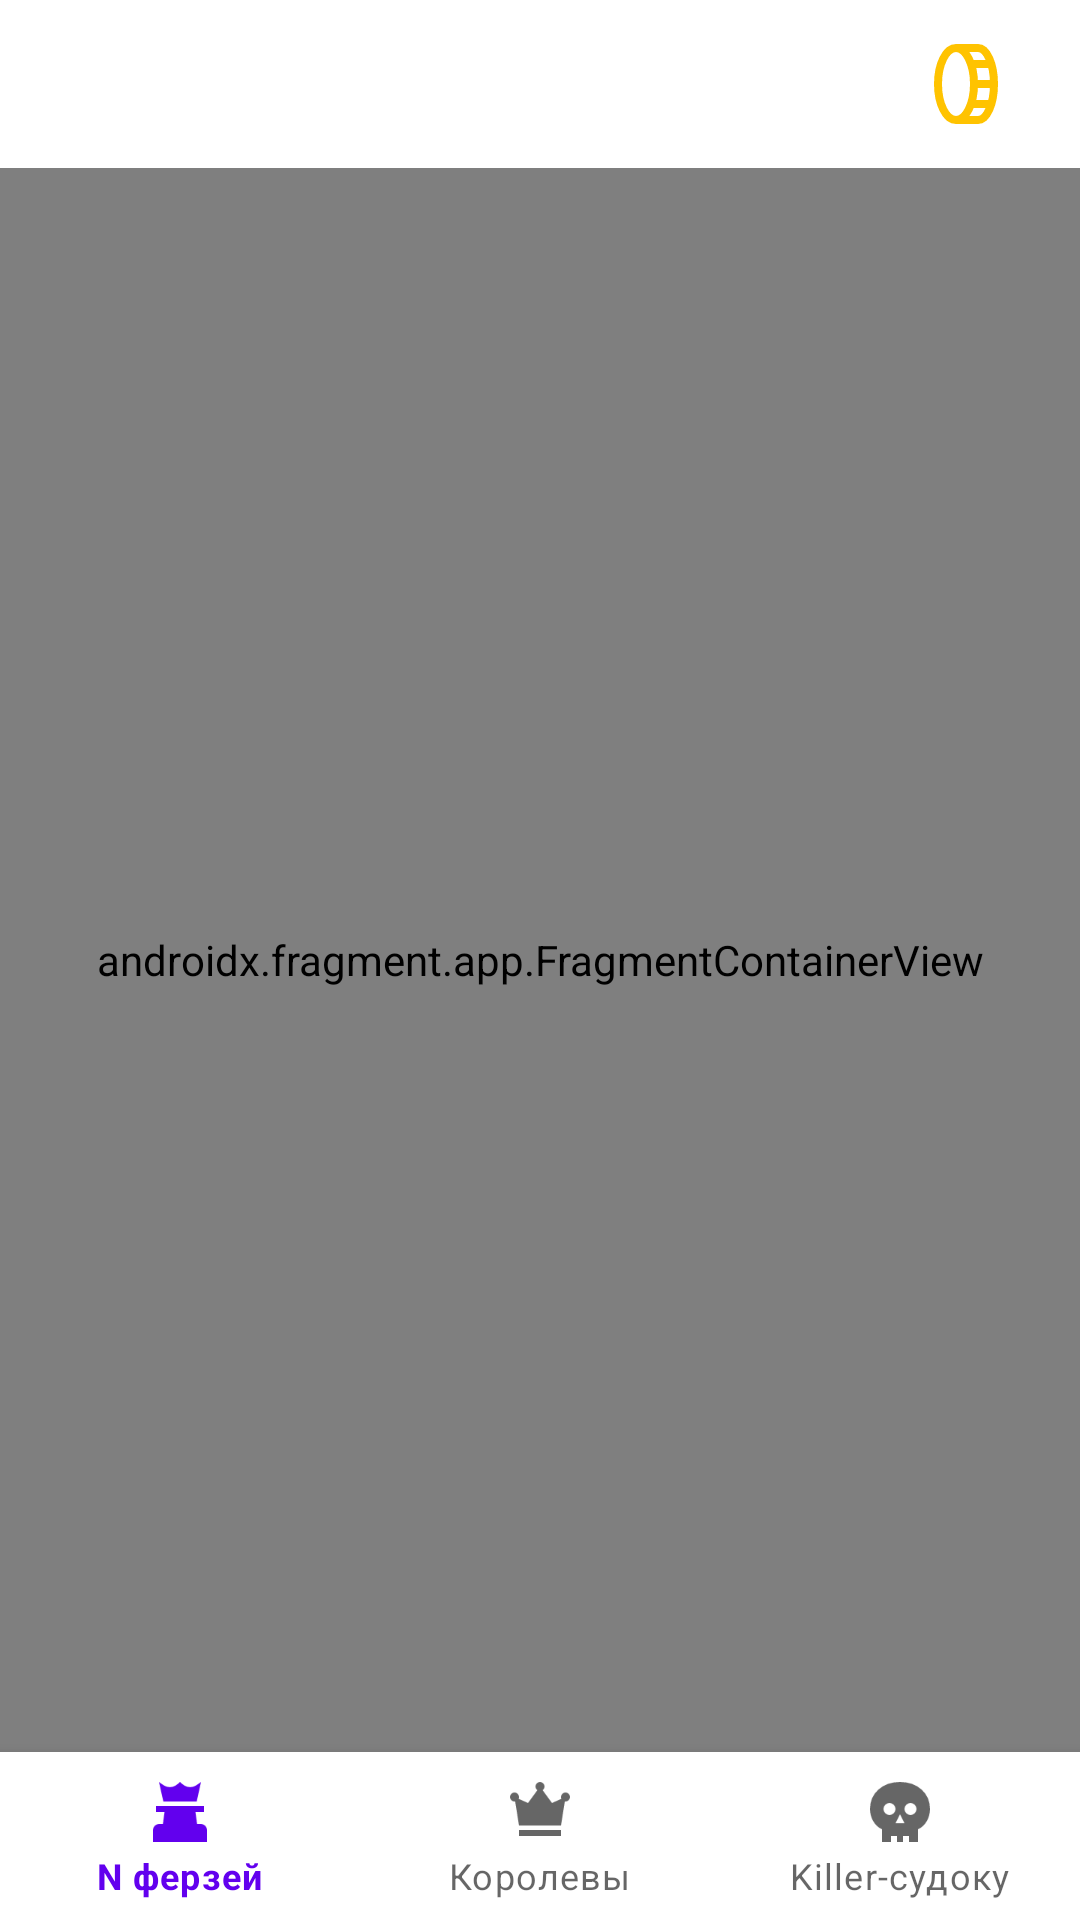

Icons on this 1080 × 1920 Android screen, each with the point to tap as (x,y):
Монетки: (966,84)
